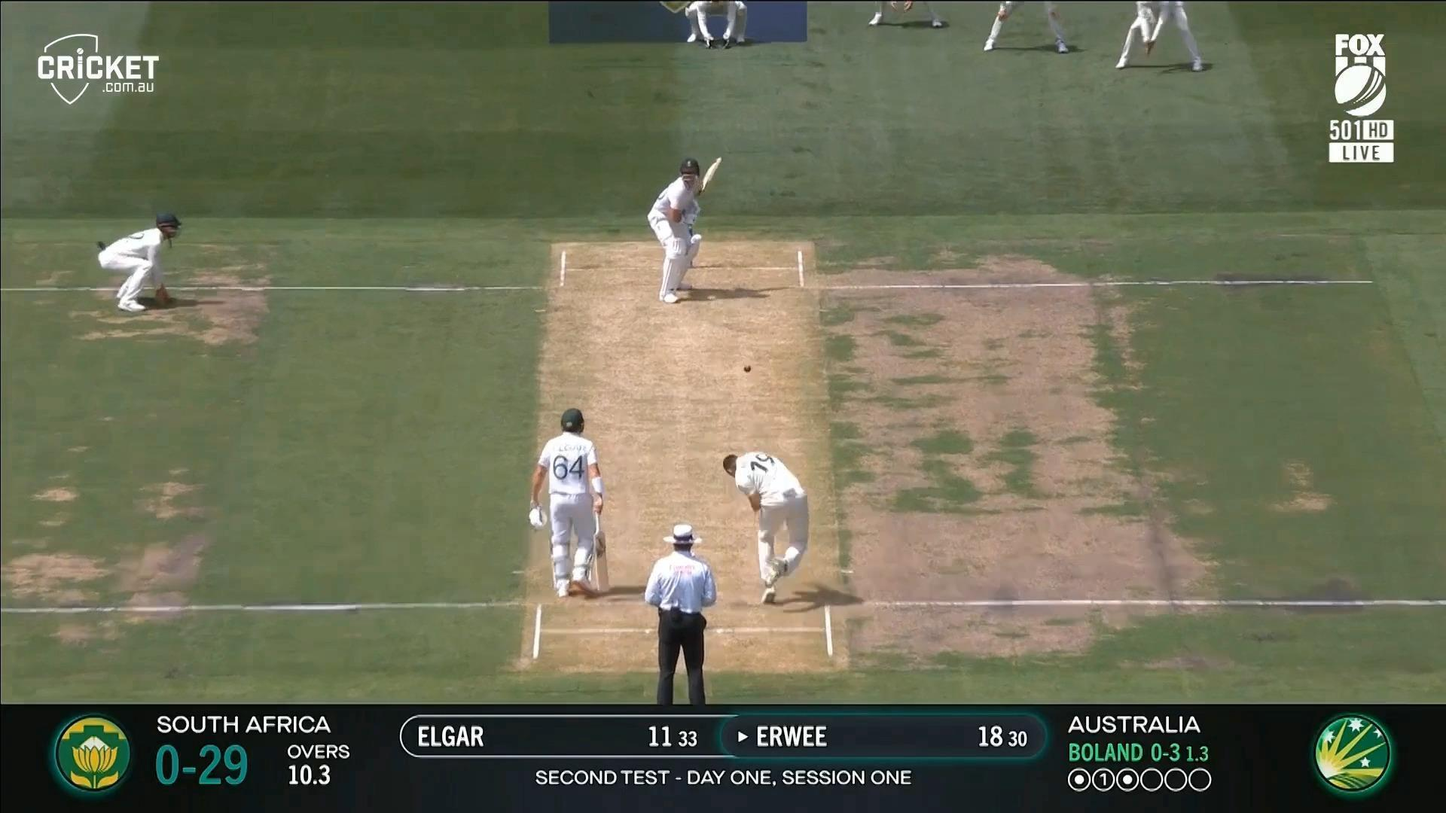BM 1: (647, 153, 725, 305)
BO: (723, 452, 810, 603)
